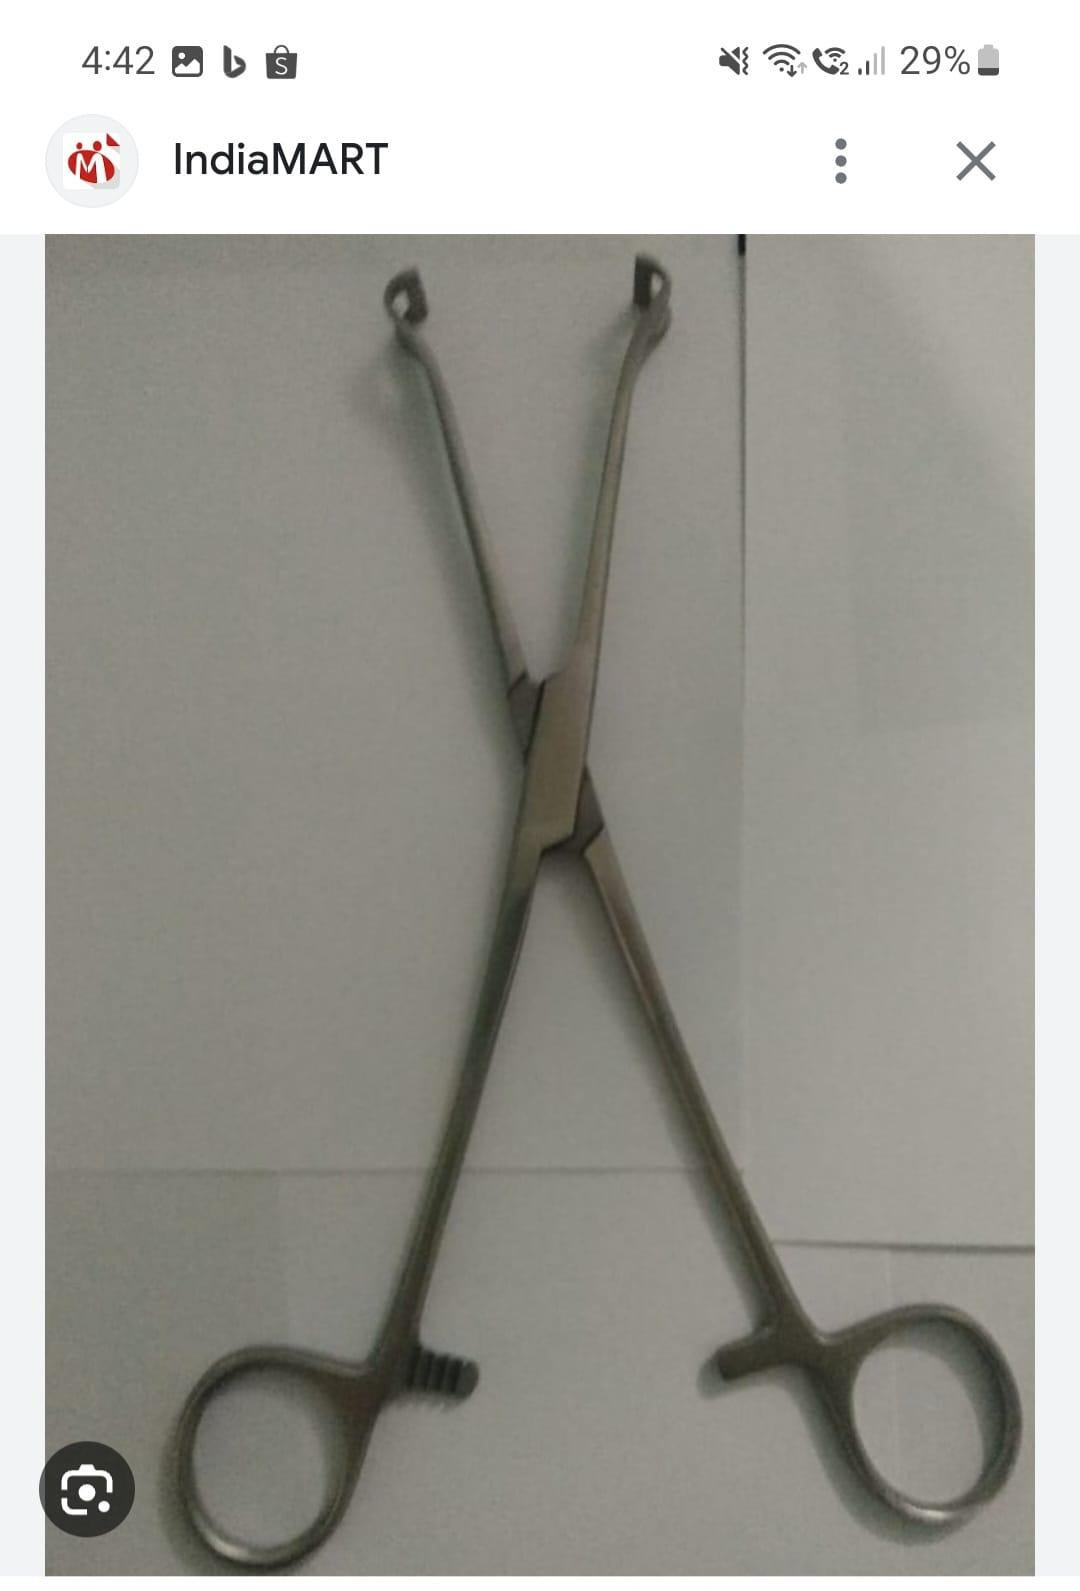Babcock Forceps: (175, 255, 1028, 1591)
